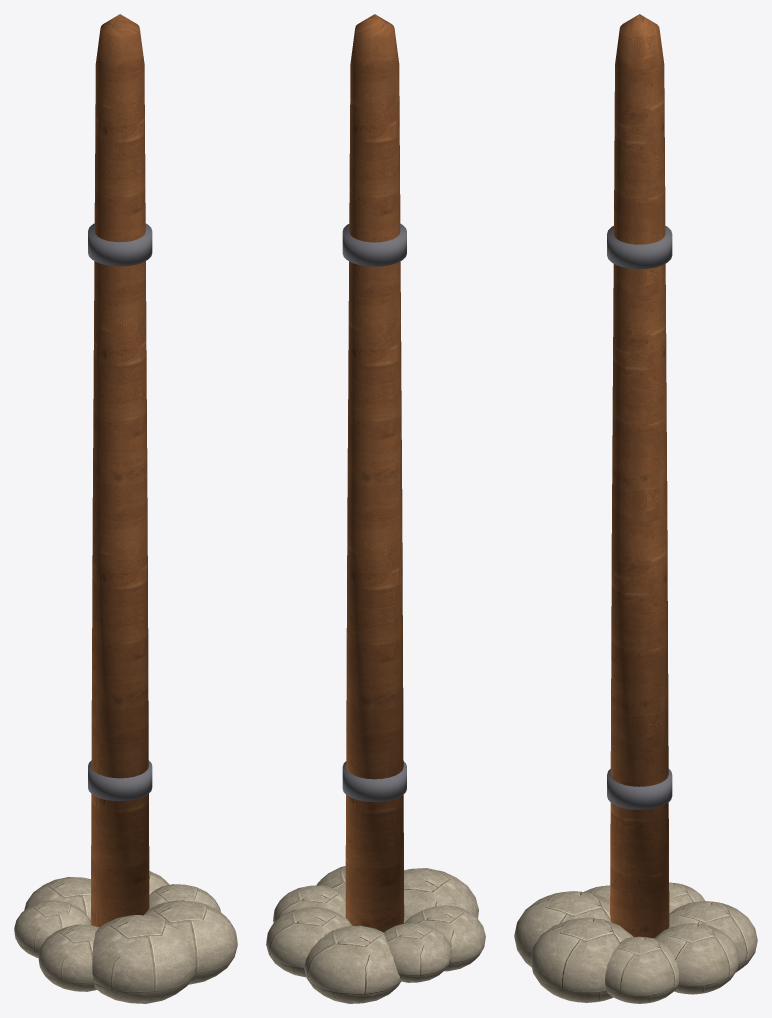
Rendered from signpost_post.glb.
3 renders of one model, left to right at view 1: azimuth 30°, elevation 25°; view 2: azimuth 150°, elevation 25°; view 3: azimuth 270°, elevation 25°, orthographic.
Visible parts, largest first — view 1: poste; view 2: poste; view 3: poste.
Part boxes in pixels (bbox=[...]): poste: bbox=[14, 14, 237, 1003]; poste: bbox=[266, 14, 485, 1003]; poste: bbox=[514, 14, 757, 1003].
Bounding box in the file's own units: 0.548 × 2.68 × 0.6125.
Materials: 3 (2 with a texture image).
